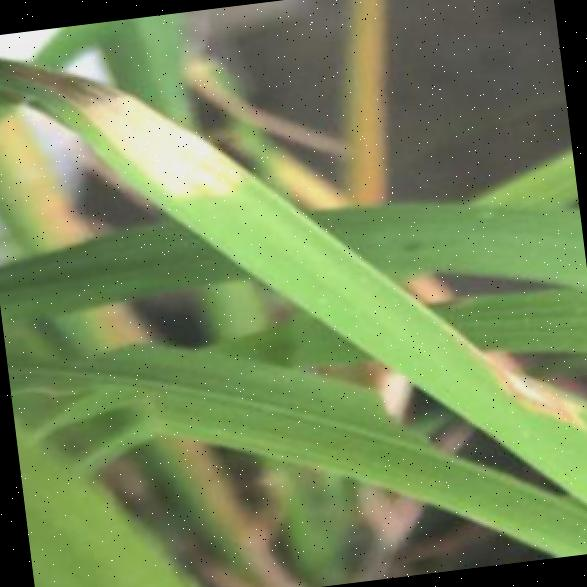Leaf_smut: (475, 333, 577, 451)
